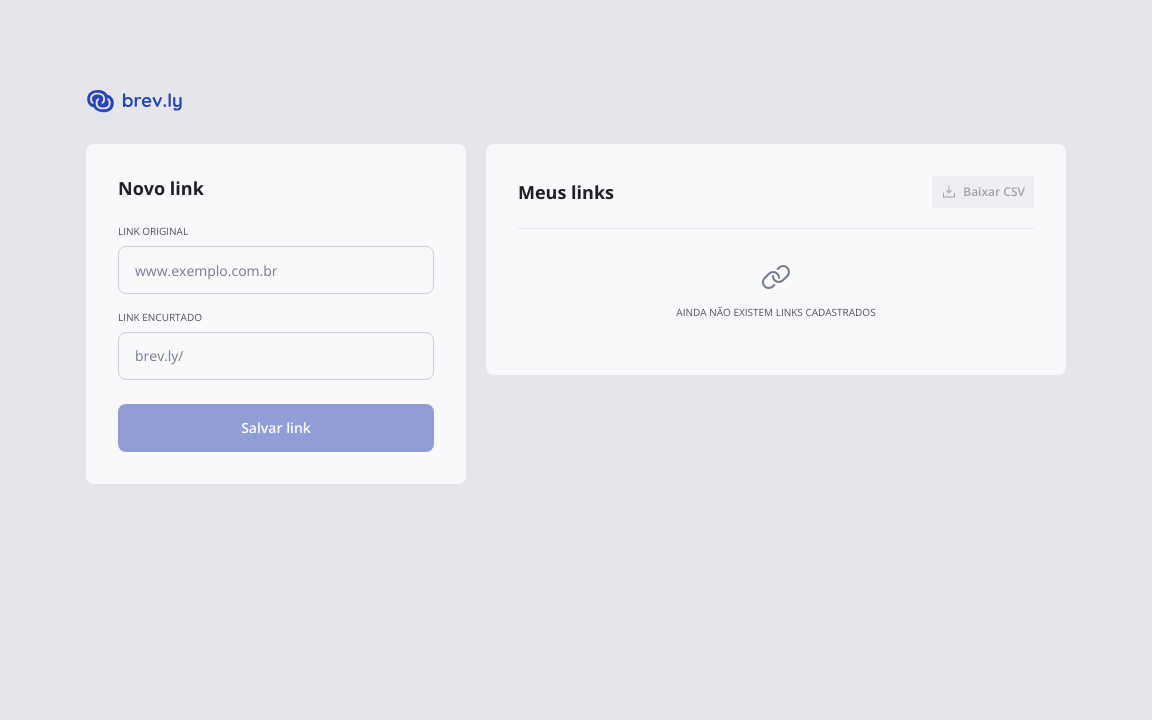
Test case: Home — cadastro › cria o link uma única vez, normaliza a URL e limpa o formulário
In the field labelled "Link original": [276, 270] box x1=135 y1=247 x2=417 y2=293, type "linkedin.com/in/myprofile"
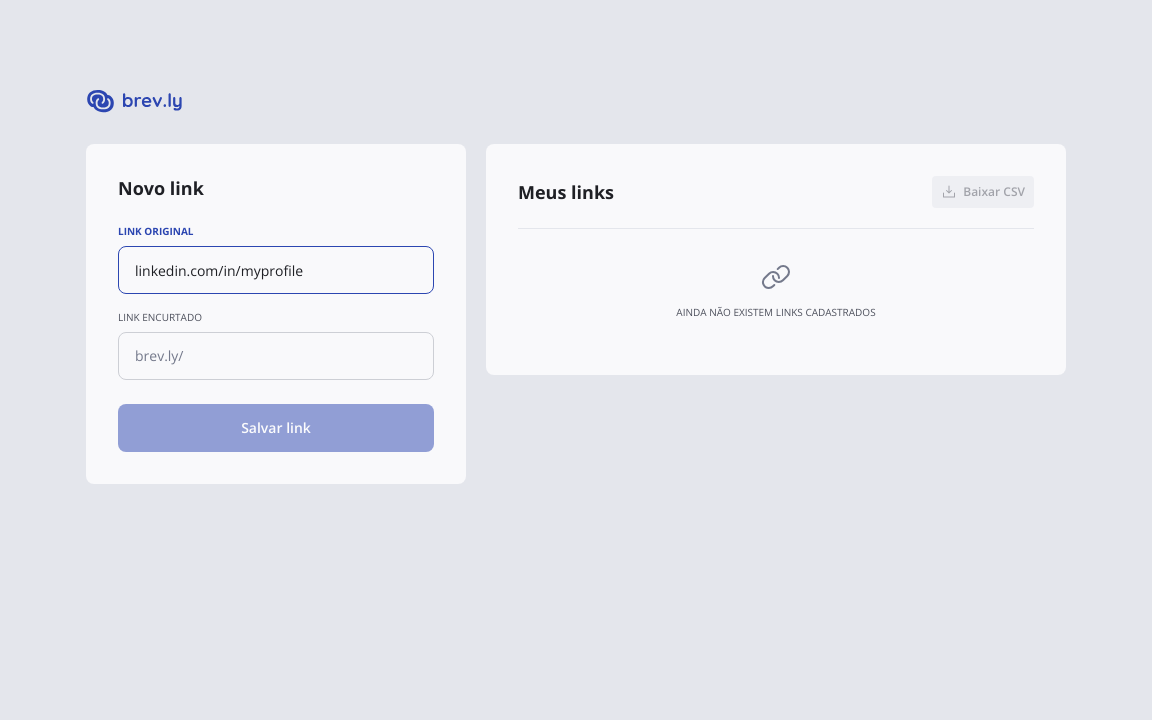
In the field labelled "Link encurtado": [300, 356] box x1=184 y1=333 x2=417 y2=379, type "Linkedin-Profile"
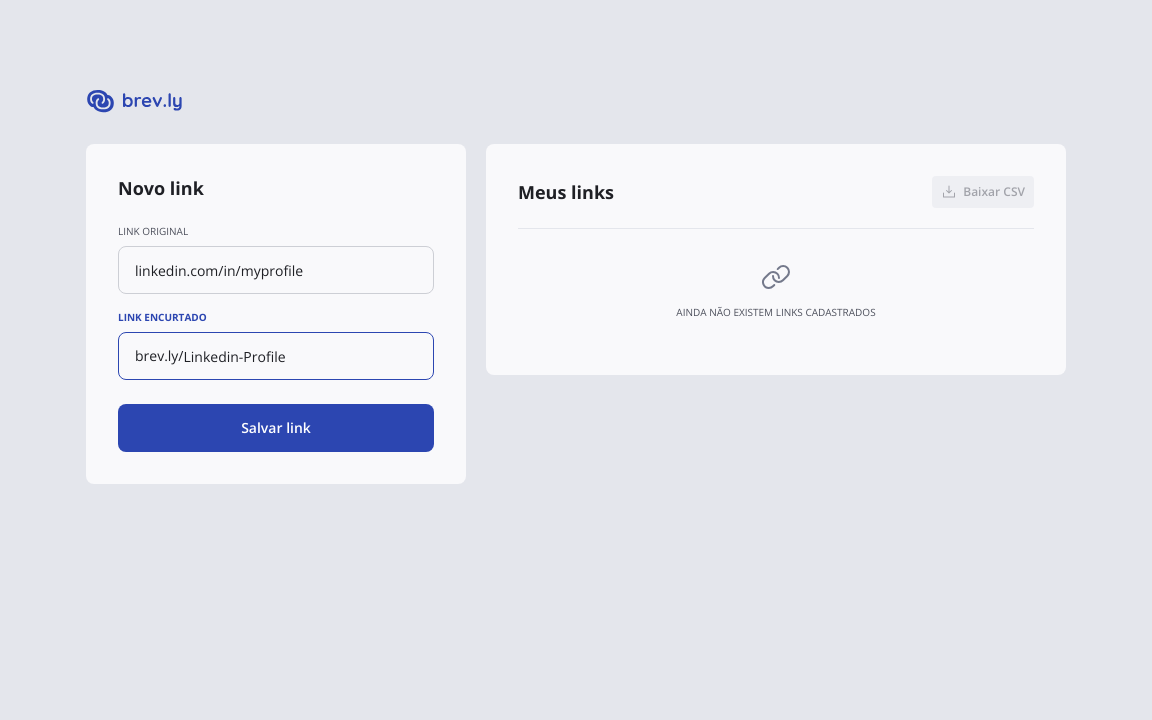
Click the button "Salvar link": [276, 428] box x1=118 y1=404 x2=434 y2=452
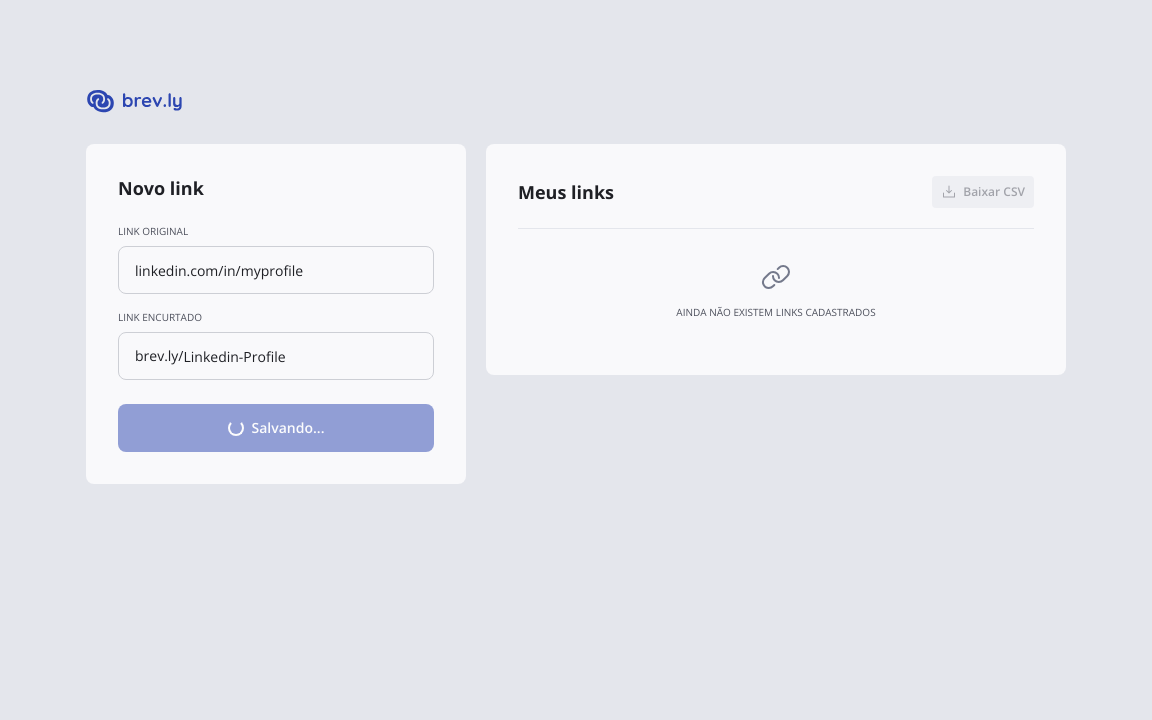
Now the button "Salvando..." is disabled
Click the button "Salvando...": [276, 428] box x1=118 y1=404 x2=434 y2=452
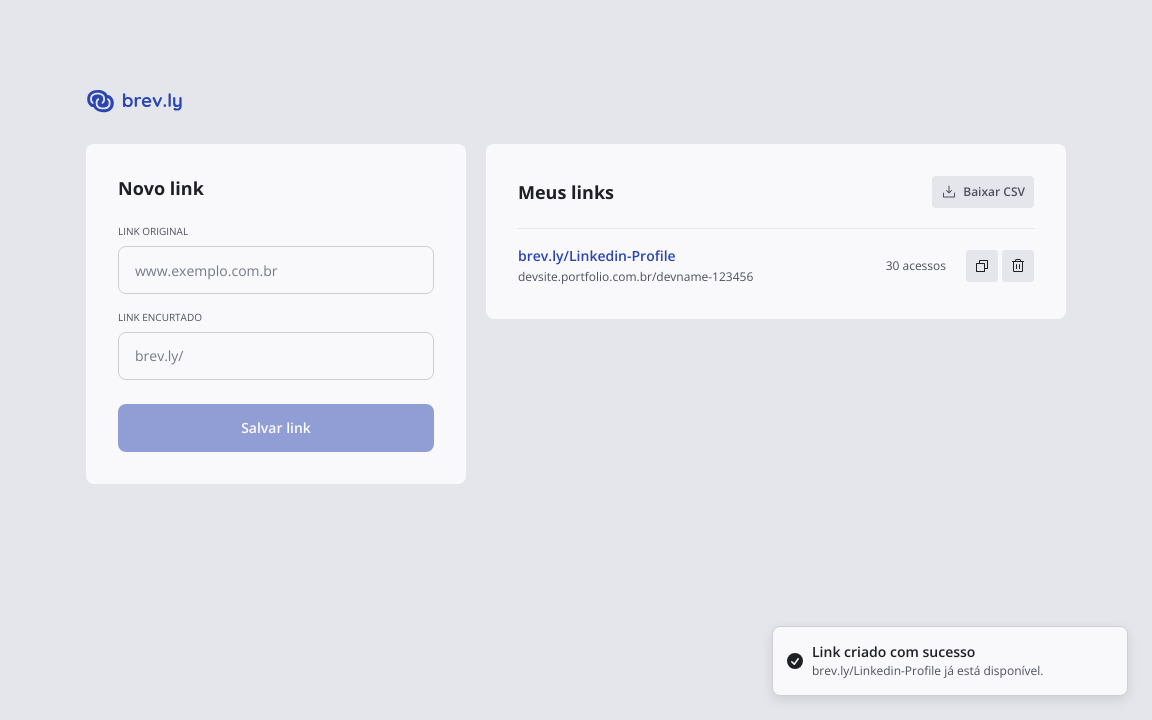
Now the text "Link criado com sucesso" is shown, box x1=812 y1=642 x2=975 y2=661
Now the field labelled "Link original" is empty, box x1=135 y1=247 x2=417 y2=293
Now the link "brev.ly/Linkedin-Profile" is shown, box x1=518 y1=246 x2=676 y2=265
